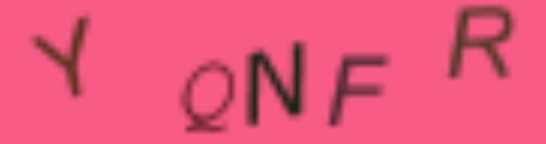F: (323, 51, 392, 135)
N: (242, 37, 312, 131)
Q: (176, 58, 238, 138)
R: (444, 2, 517, 81)
Y: (28, 11, 92, 103)
